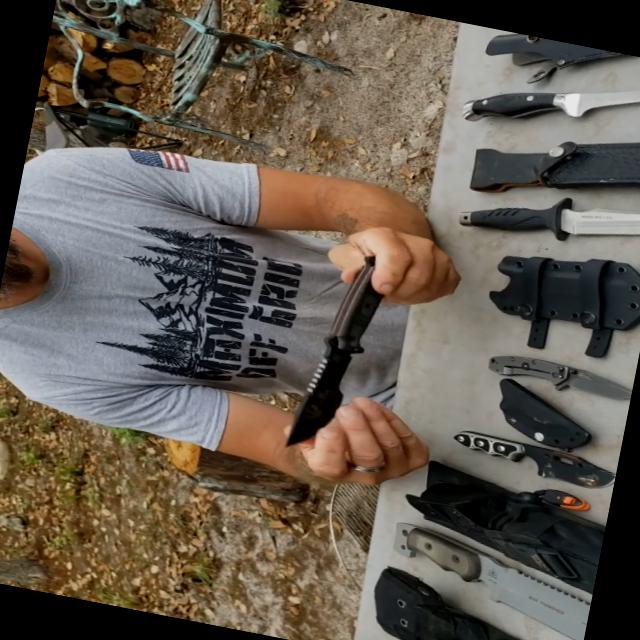knife: (240, 222, 412, 465), (331, 499, 601, 639), (445, 36, 639, 166), (448, 146, 639, 278), (428, 408, 620, 495), (458, 330, 638, 409)
